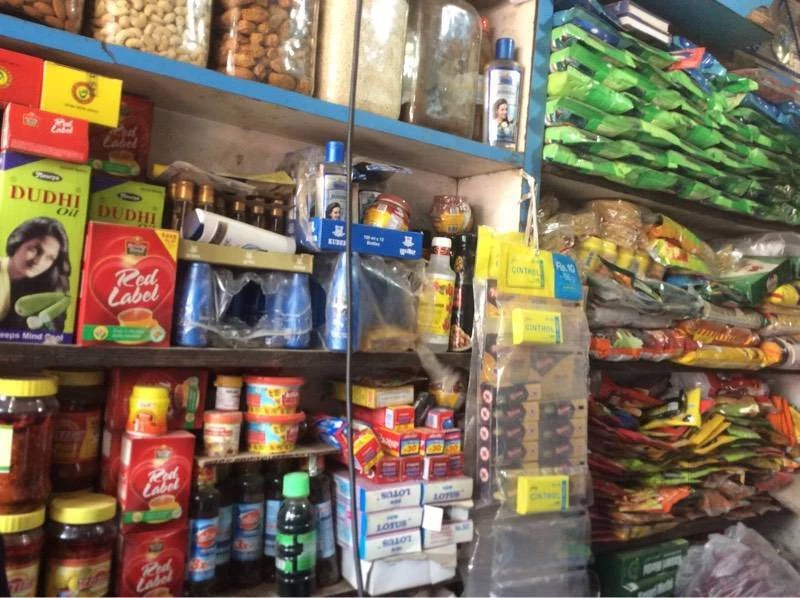other: (337, 0, 785, 407), (0, 15, 353, 186), (0, 340, 342, 378)
